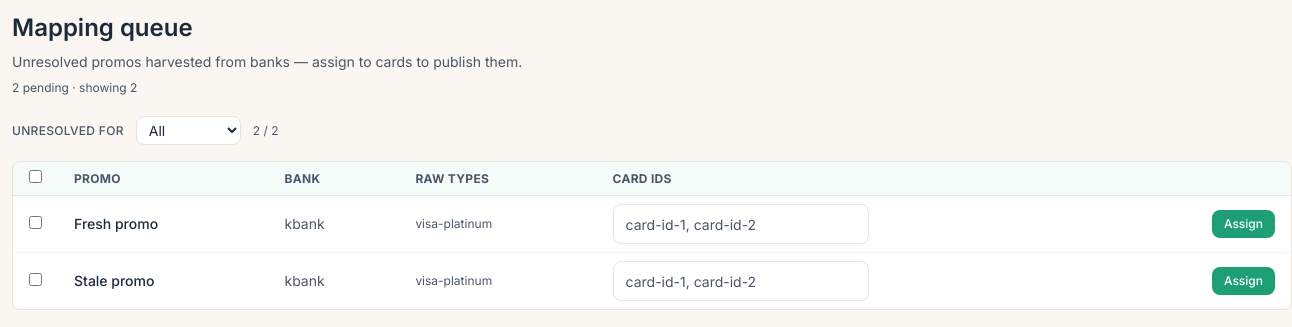
Test: AdminMappingQueuePage › changing the unresolved-days filter hides rows newer than the threshold
Expected: the row with test id "mapping-queue-row-p-fresh" is shown, [13,196,1291,252]
Expected: the row with test id "mapping-queue-row-p-stale" is shown, [13,252,1291,309]
Select "> 14 days" in the dropdown with test id "mapping-queue-days-filter" at coordinates (188, 130), box [136,116,241,145]
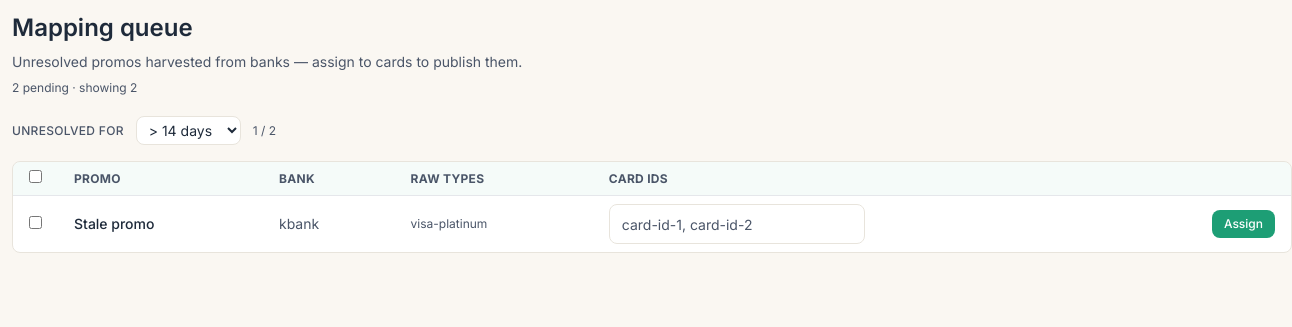
Expected: the row with test id "mapping-queue-row-p-stale" is shown, [13,196,1291,252]
Result: the row with test id "mapping-queue-row-p-fresh" is gone
Result: the text with test id "mapping-queue-count" reads "1 / 2" at [253,122,276,138]
